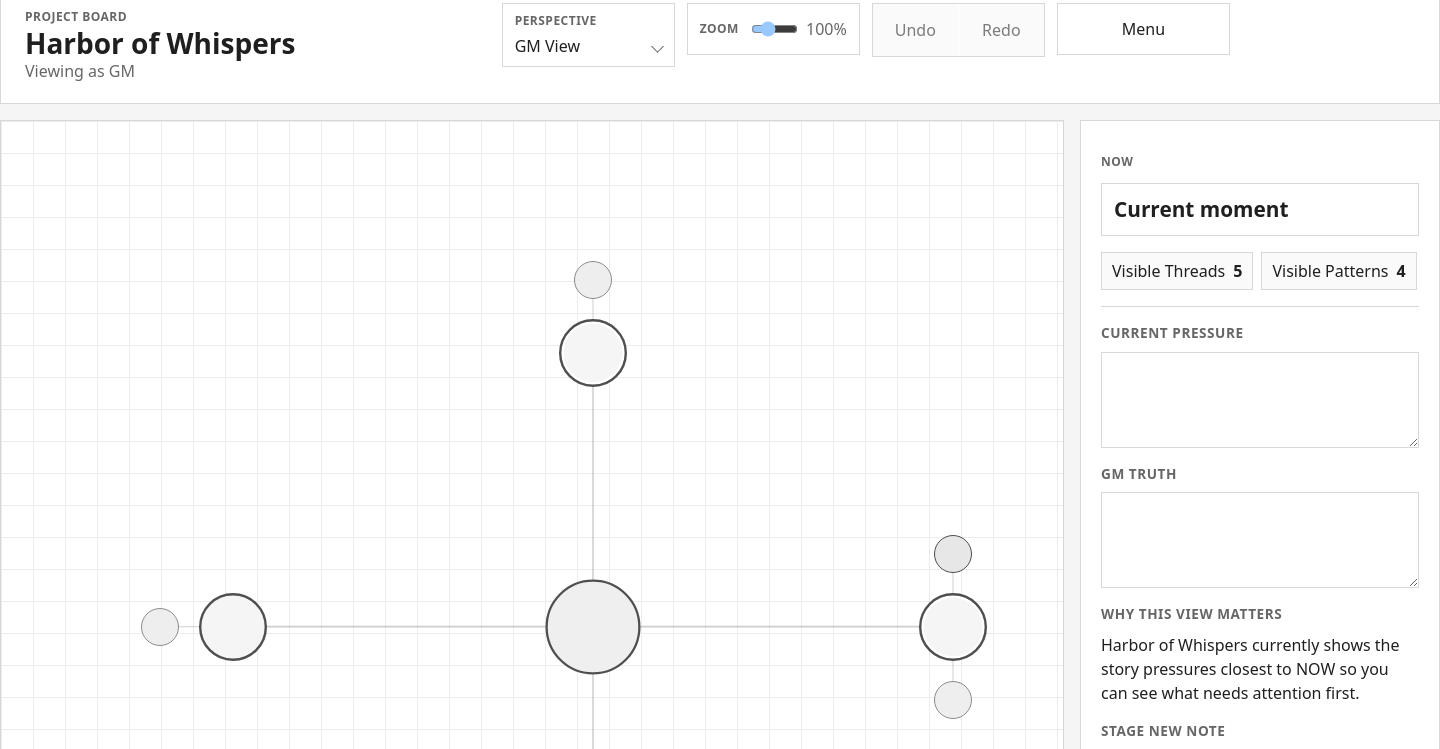
Test: project board page › renders the board shell with NOW focused by default and opens thread cards on click
This screenshot has width=1440, height=749.
Expected: the field showing "Current moment" is shown, left=1101, top=183, right=1419, bottom=236
Expected: the slider named "Board zoom" holds "100", left=751, top=21, right=798, bottom=37
Step 1. Click the button with test id "graph-node-thread-whispers-harbor" → (953, 700), box left=934, top=681, right=972, bottom=719
(page scrolled)
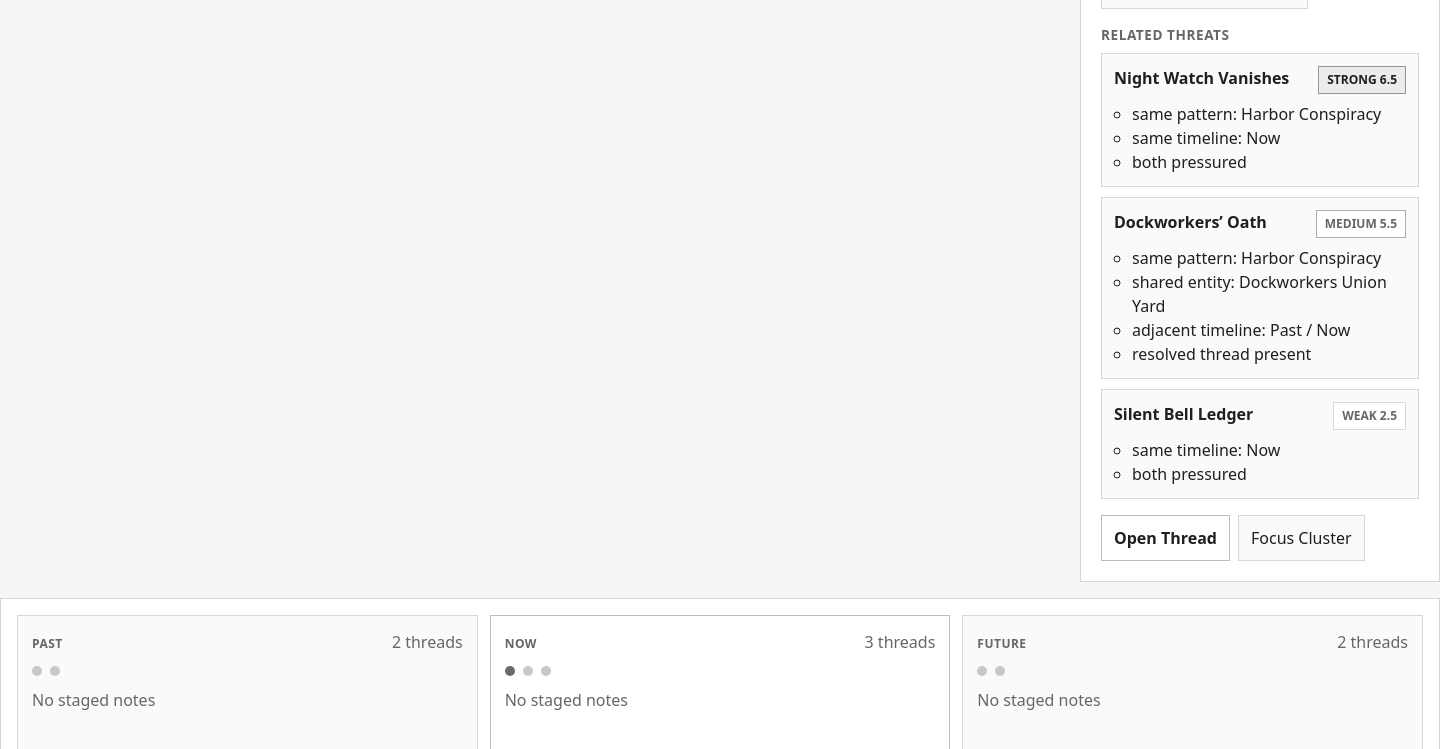
Result: the list with test id "related-threats" shows "Night Watch Vanishes" at left=1114, top=67, right=1289, bottom=89
Result: the list with test id "related-threats" shows "same pattern: Harbor Conspiracy" at left=1132, top=103, right=1381, bottom=125
